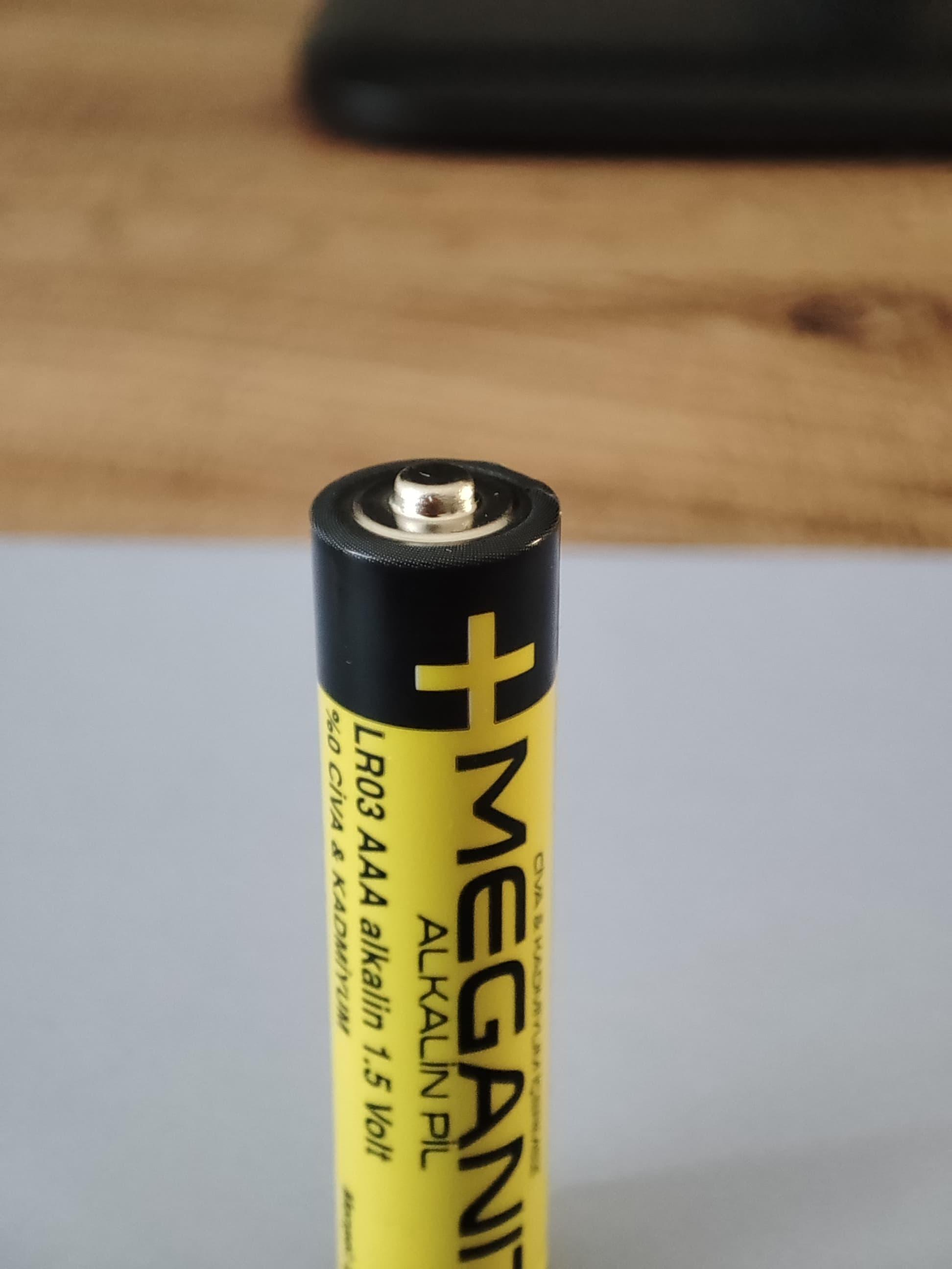AAA: (308, 456, 562, 1266)
